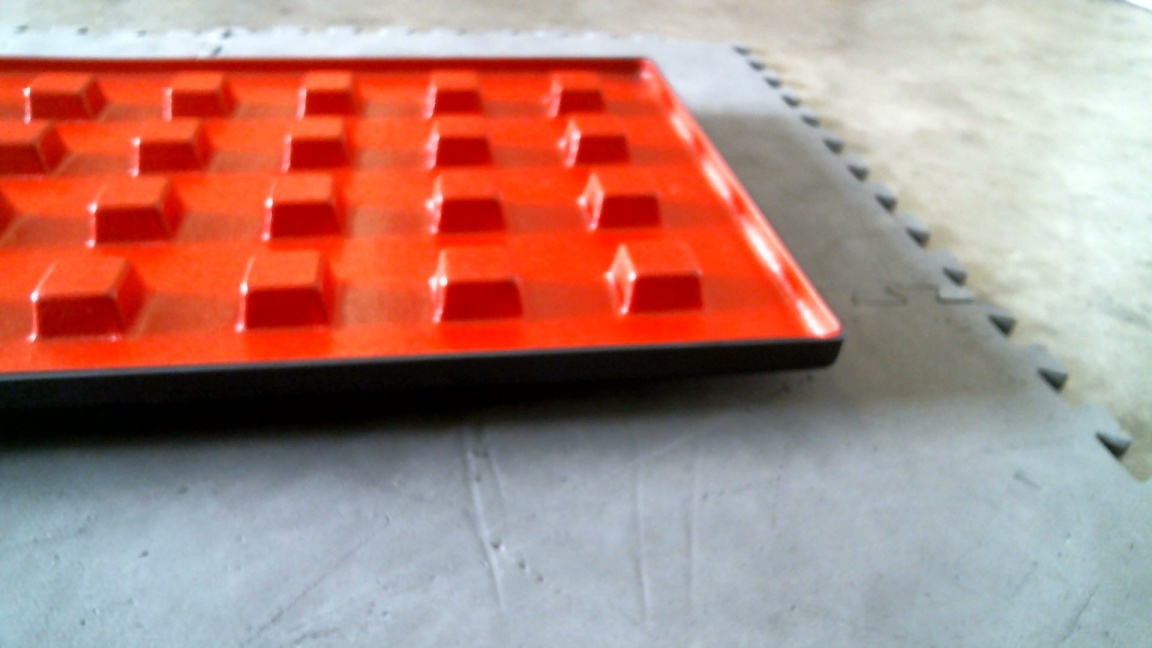red_foundation: (1, 54, 837, 408)
